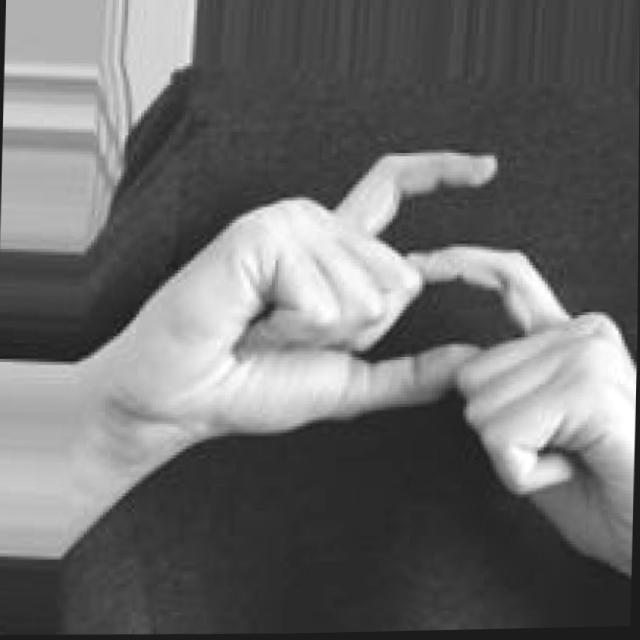G: (94, 132, 639, 614)
